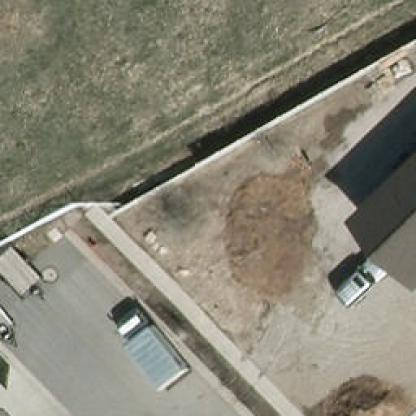car: (334, 252, 388, 309)
truck: (102, 305, 192, 395)
